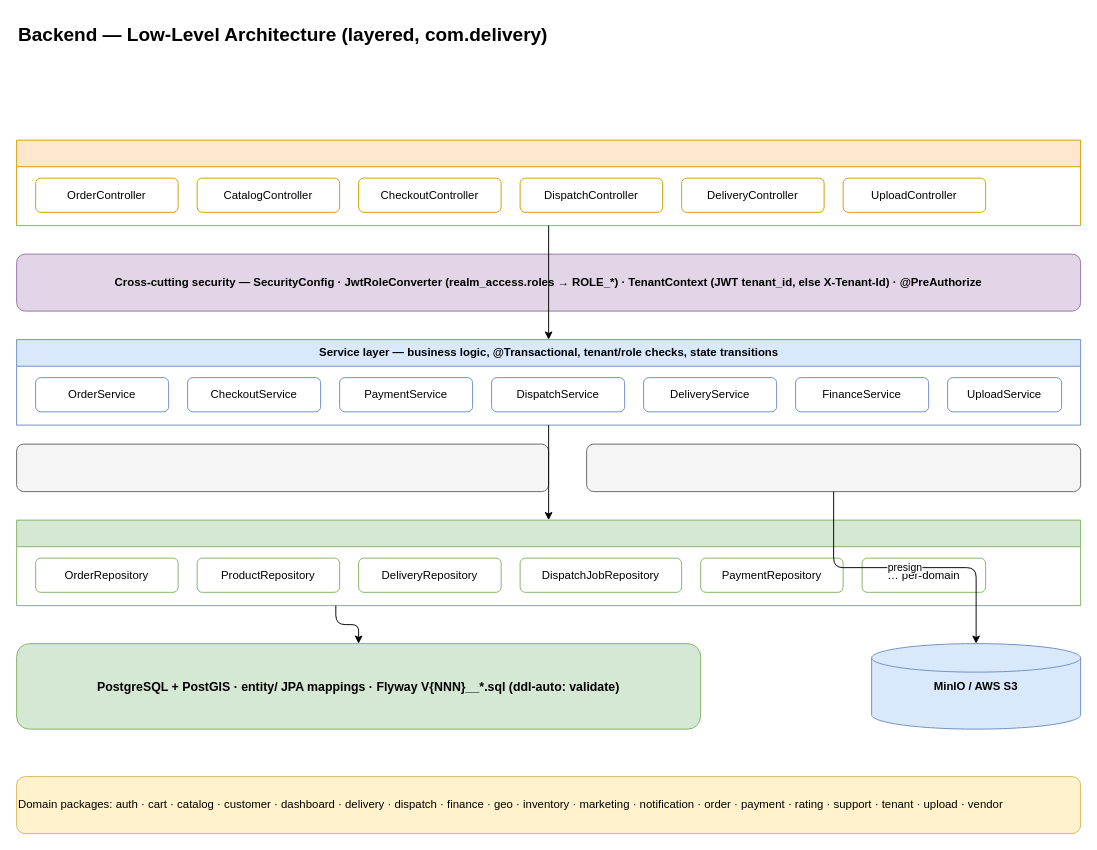
This 1097x850 diagram has some shape labels left out. Each missing label, with the box of its shape:
Controller layer — REST endpoints, request validation, response DTOs (/api/v1): (16, 139, 1081, 226)
Mapper (Entity to DTO) · dto/ request and response payloads: (16, 443, 549, 492)
Repository layer — Spring Data JPA interfaces (no custom tenant filtering): (16, 519, 1081, 606)
S3Config → S3Presigner (static creds / default chain, path-style for MinIO): (586, 443, 1081, 492)
